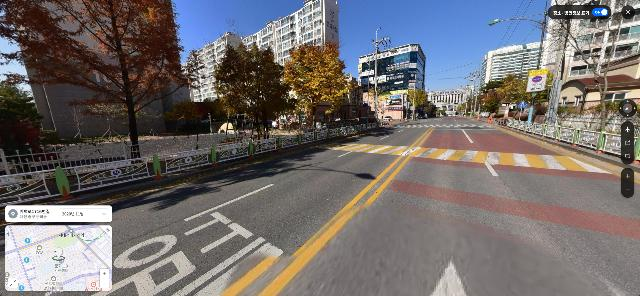ginkgo: (284, 43, 357, 130)
other: (0, 0, 204, 159), (213, 39, 298, 140)
